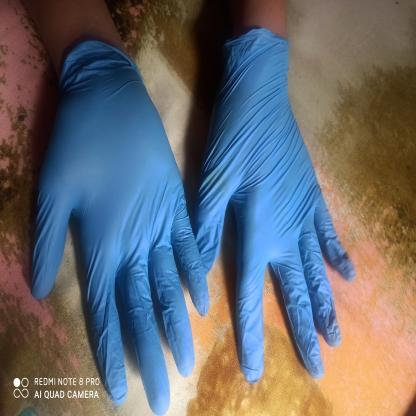gloved_hand: (23, 36, 210, 416), (190, 24, 360, 387)
